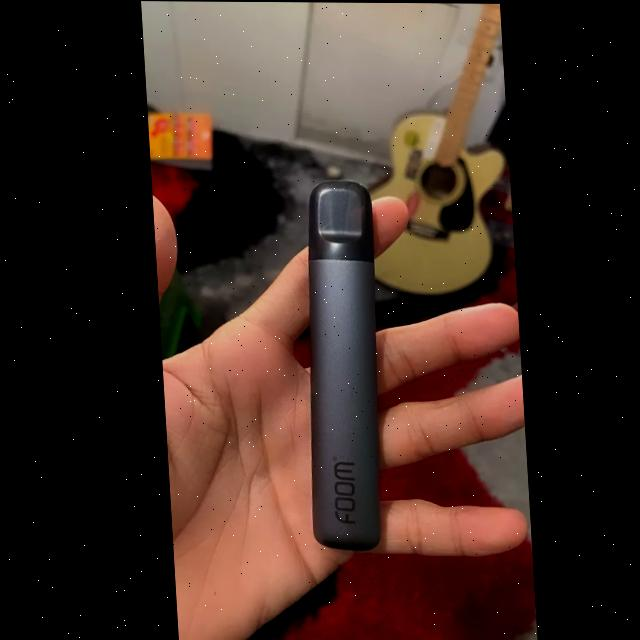vape: (289, 179, 381, 547)
